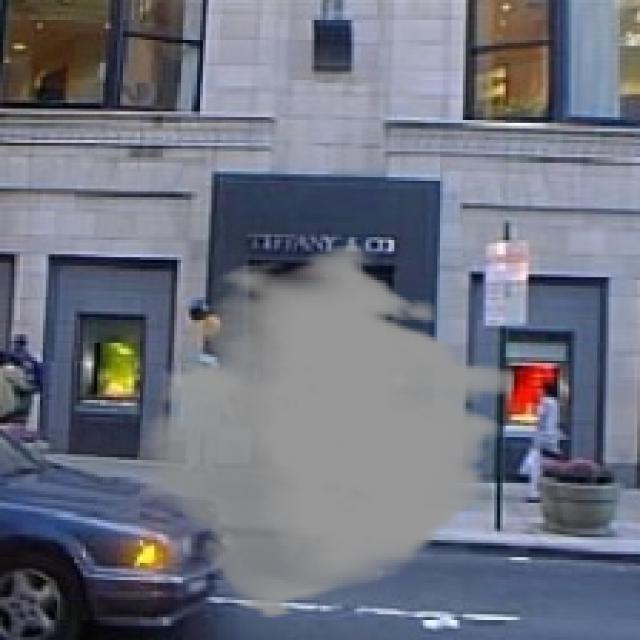Smoke: (137, 243, 514, 620)
